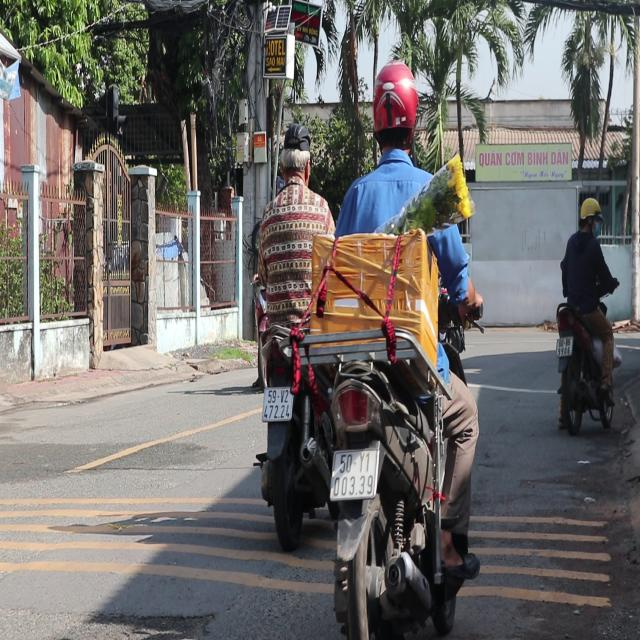helmet: (368, 59, 419, 160), (577, 196, 600, 232)
licenseplate: (316, 61, 488, 634), (246, 120, 340, 542), (552, 195, 621, 432)
motorcyclist: (278, 122, 312, 186)
nohelmet: (331, 448, 377, 498), (263, 387, 292, 420), (556, 336, 572, 355)
